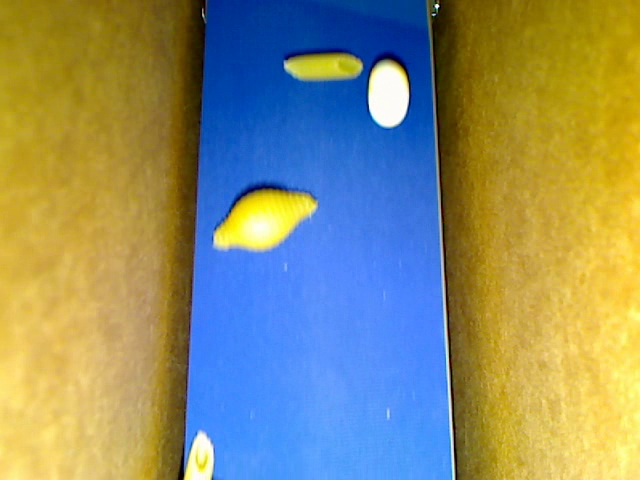penne: (284, 54, 363, 82), (184, 429, 214, 479)
shell: (213, 188, 317, 250)
